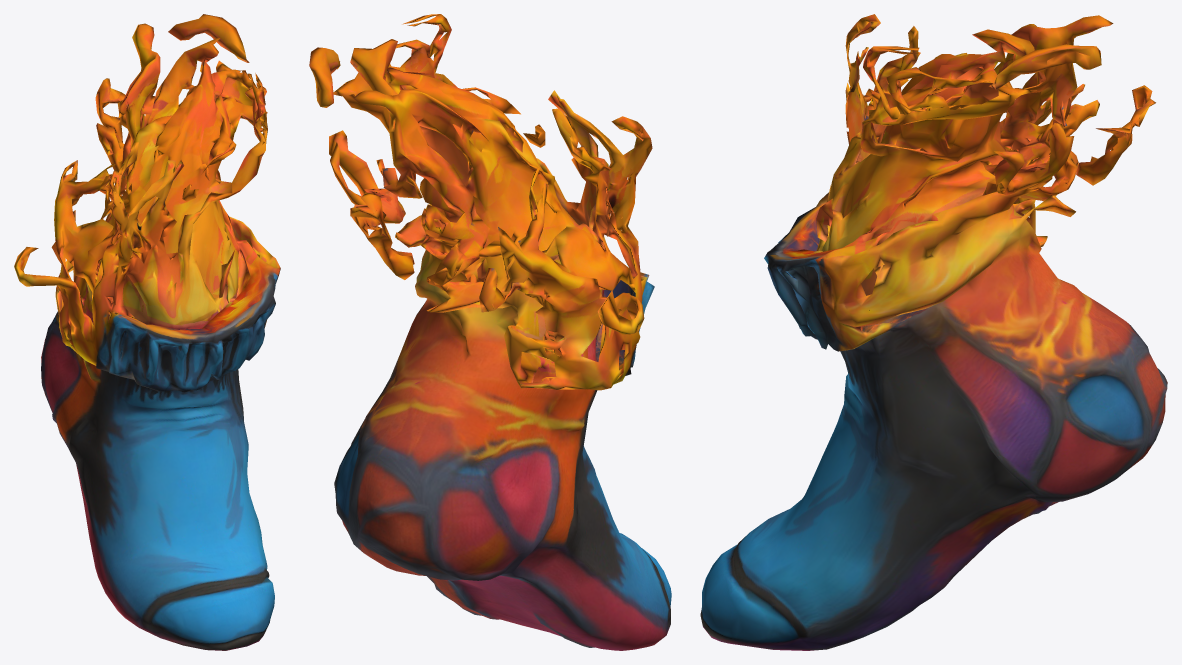
3 views of the same model, side by side, from view 1: azimuth 30°, elevation 25°; view 2: azimuth 150°, elevation 25°; view 3: azimuth 270°, elevation 25° (orthographic). The views are drawn at different scales.
Size of the model in its own units: 0.9701 by 1.99 by 1.3.
1 material, 1 textured.
